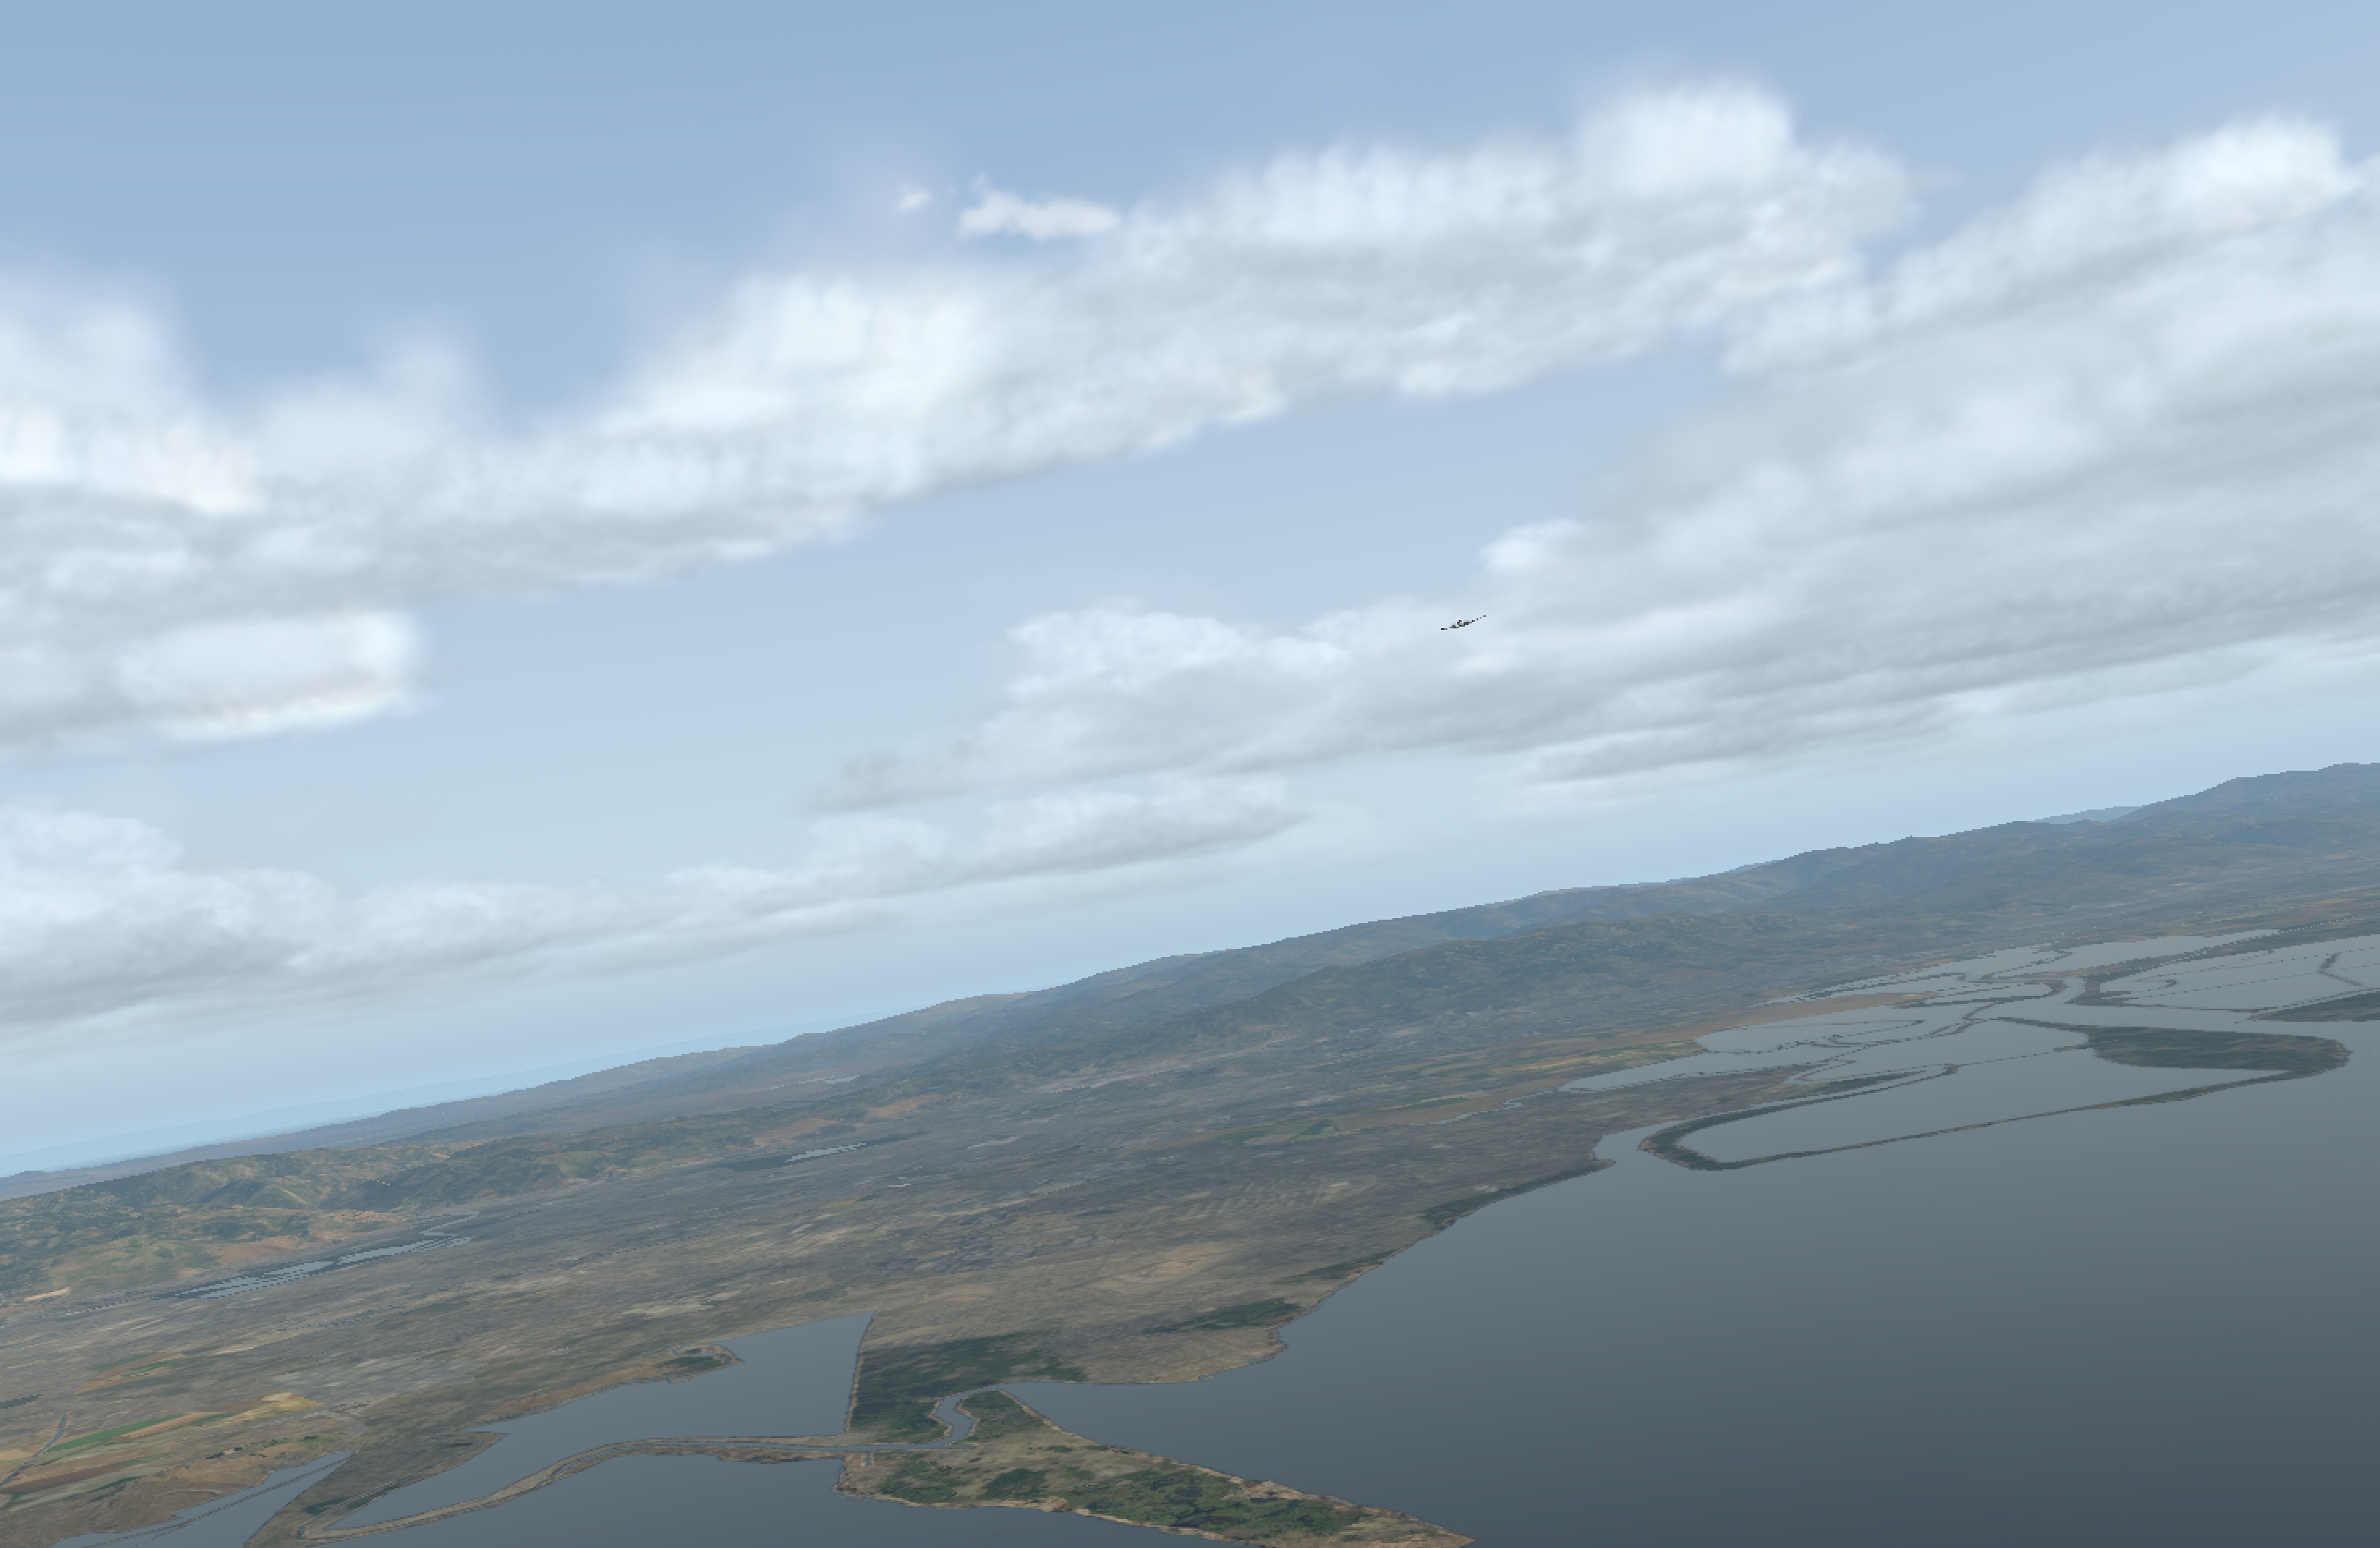aircraft: (1435, 616, 1488, 637)
